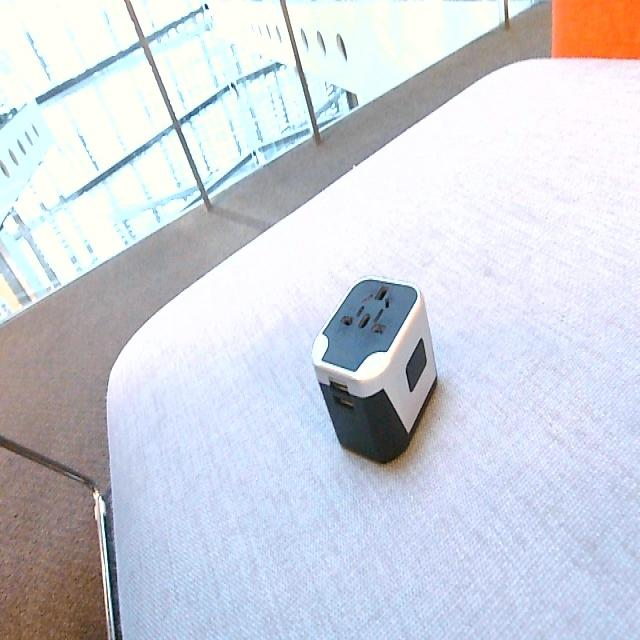adapter: (310, 275, 438, 464)
